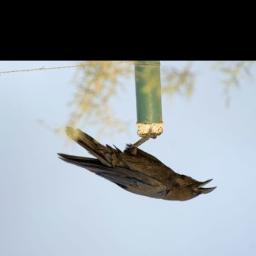Crow: (53, 126, 219, 205)
